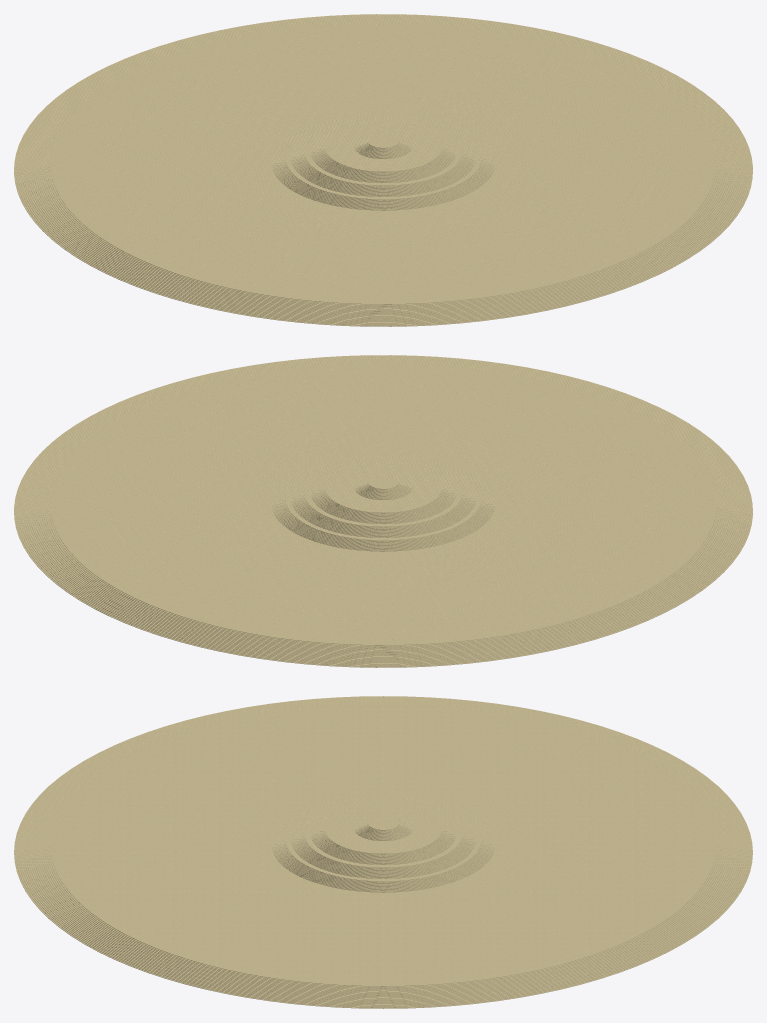
The picture shows the model from 3 angles, top to bottom: view 1: azimuth 30°, elevation 25°; view 2: azimuth 150°, elevation 25°; view 3: azimuth 270°, elevation 25°; orthographic projection.
Visible parts, largest first — view 1: Base; view 2: Base; view 3: Base.
Part boxes in pixels (bbox=[...]): Base: bbox=[14, 14, 752, 326]; Base: bbox=[14, 355, 752, 667]; Base: bbox=[14, 696, 752, 1008].
Bounding box in the file's own units: 12594 × 550 × 12594.
